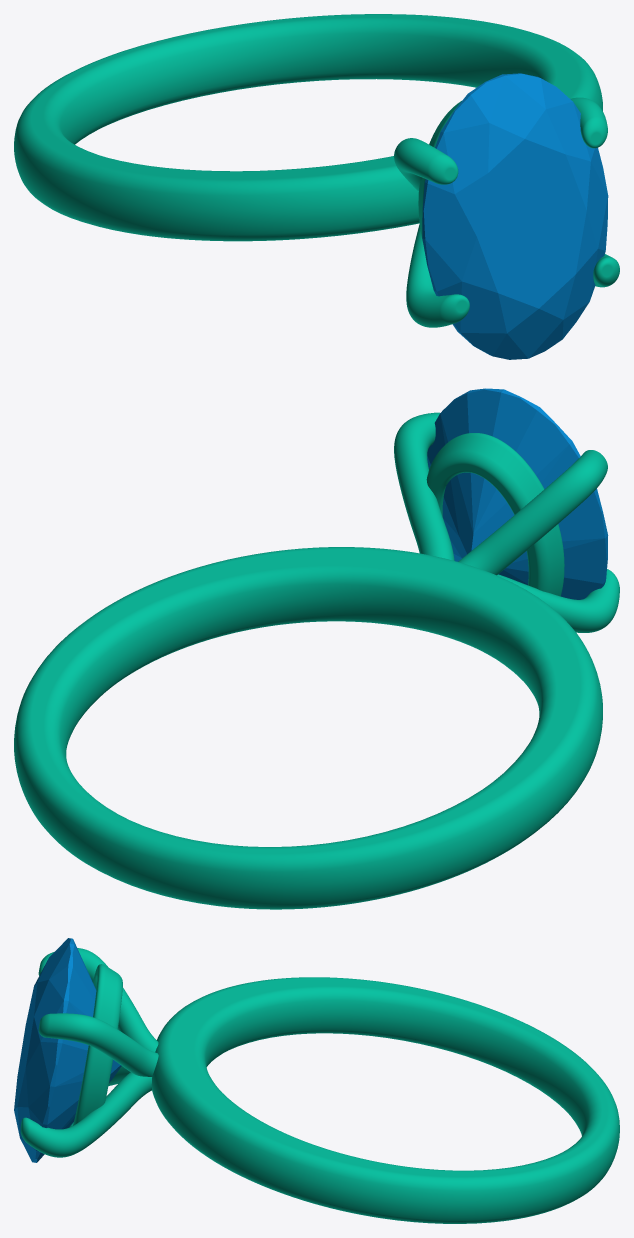
3 renders of one model, top to bottom at view 1: azimuth 30°, elevation 25°; view 2: azimuth 150°, elevation 25°; view 3: azimuth 270°, elevation 25°, orthographic. The views are drawn at different scales.
Visible parts, largest first — view 1: VR-113(base).3dm, Diamond_Oval; view 2: VR-113(base).3dm, Diamond_Oval; view 3: VR-113(base).3dm, Diamond_Oval.
Part boxes in pixels (left/top/right/bottom): VR-113(base).3dm: left=14, top=14, right=619, bottom=327; Diamond_Oval: left=422, top=73, right=608, bottom=359; VR-113(base).3dm: left=14, top=412, right=619, bottom=909; Diamond_Oval: left=427, top=388, right=608, bottom=599; VR-113(base).3dm: left=20, top=948, right=619, bottom=1223; Diamond_Oval: left=14, top=938, right=121, bottom=1162.
Size of the model in its own units: 2.36 by 1.17 by 3.01.
